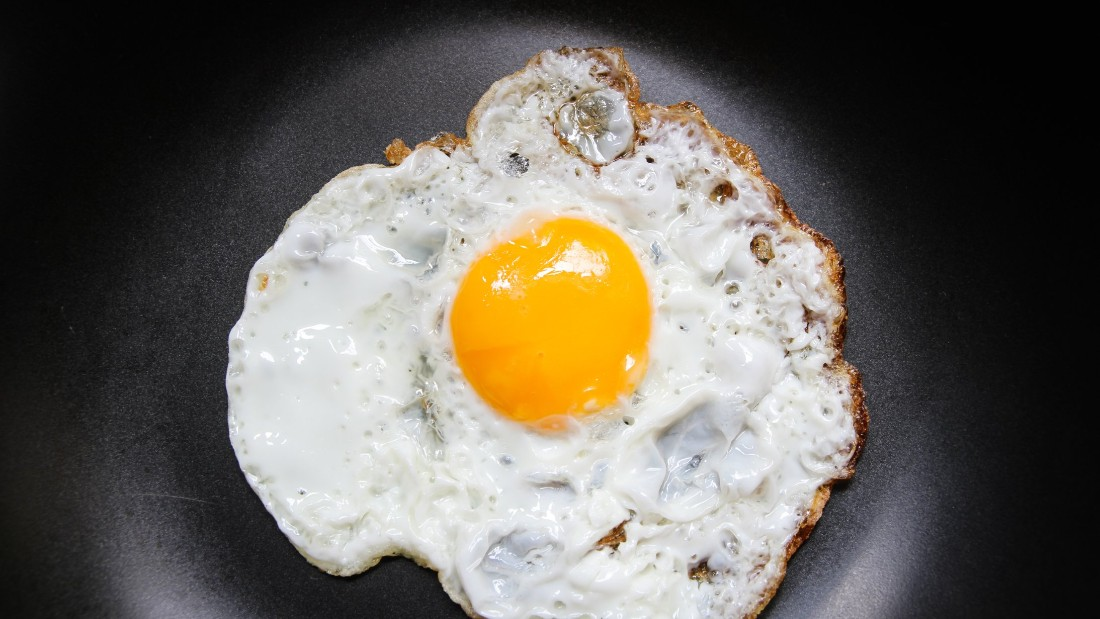fried egg: (287, 116, 863, 589)
